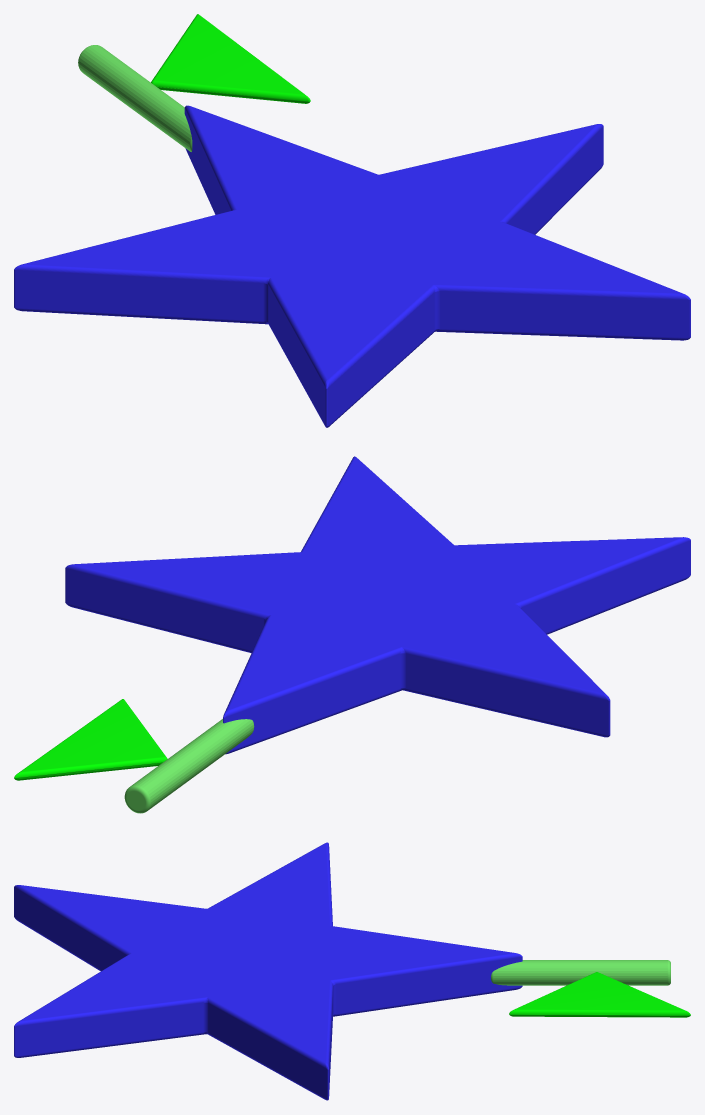
Rendered from マナの実 1.fbx.
3 views of the same model, one above another, from view 1: azimuth 30°, elevation 25°; view 2: azimuth 150°, elevation 25°; view 3: azimuth 270°, elevation 25° (orthographic). The views are drawn at different scales.
Visible parts, largest first — view 1: 円; view 2: 円; view 3: 円.
Boxes of the visible parts, bbox=[...] form: 円: bbox=[14, 14, 690, 427]; 円: bbox=[14, 456, 690, 813]; 円: bbox=[14, 842, 690, 1100].
Size of the model in its own units: 189 by 14.32 by 239.
